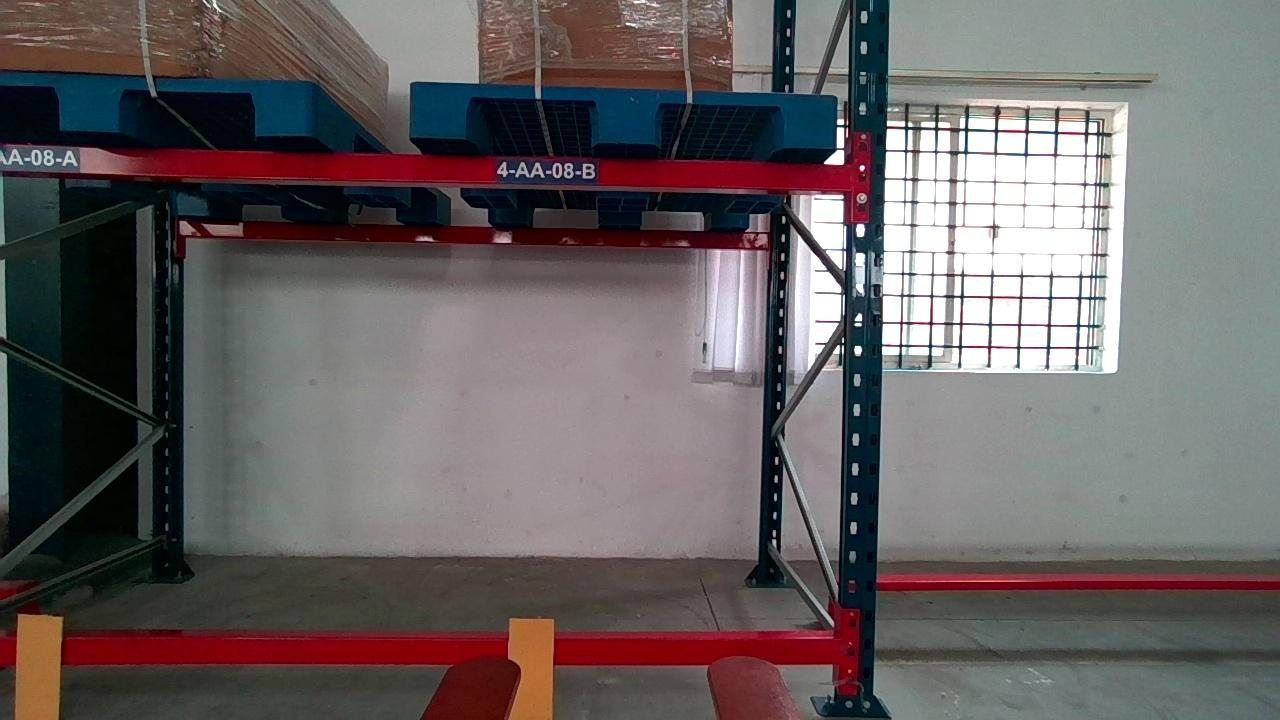h_rack: (3, 141, 856, 195), (0, 634, 840, 666)
orange_strip: (11, 610, 64, 719), (506, 619, 551, 717)
small_pallet: (409, 83, 837, 153), (0, 75, 308, 137)
